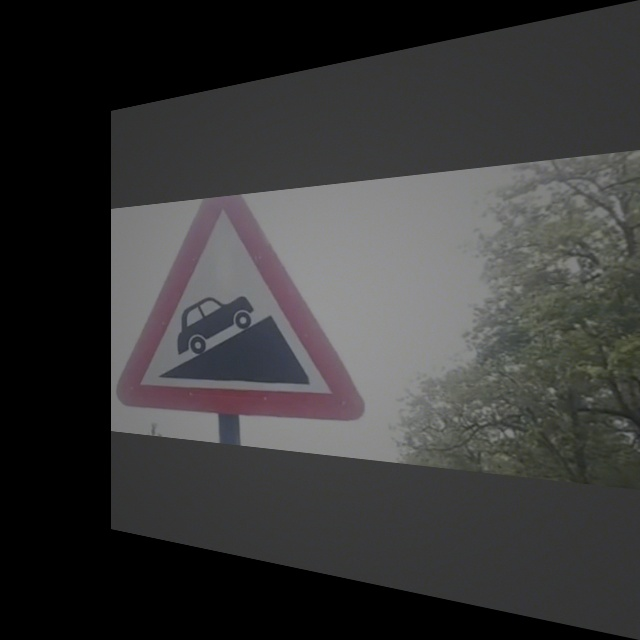Steep_Ascent: (126, 197, 359, 422)
